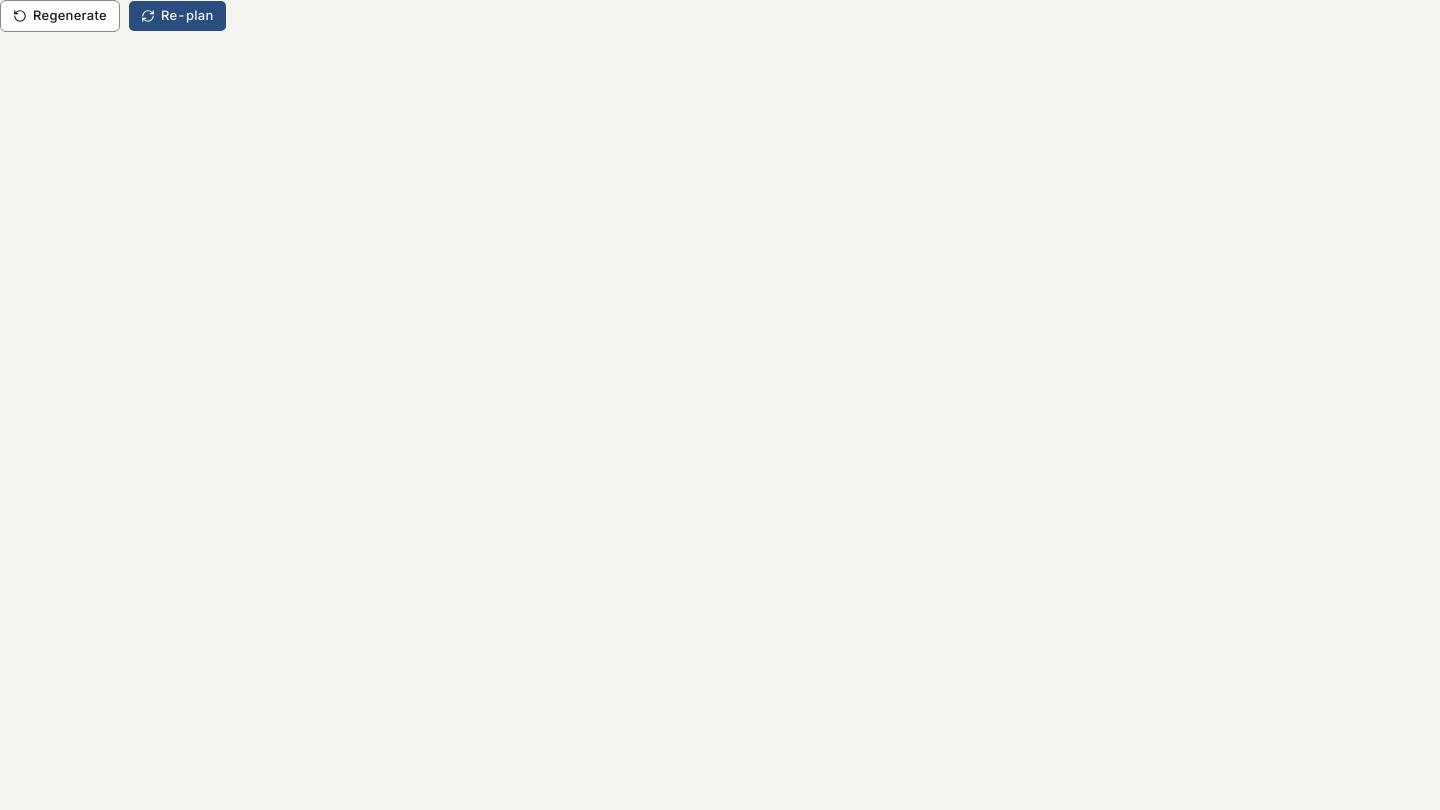
Test: PlanActions › treats a plan that gained progress as a conflict too
The image size is (1440, 810).
Step 1. Click the button "Regenerate" → coordinates (60, 16), box [0,0,120,32]
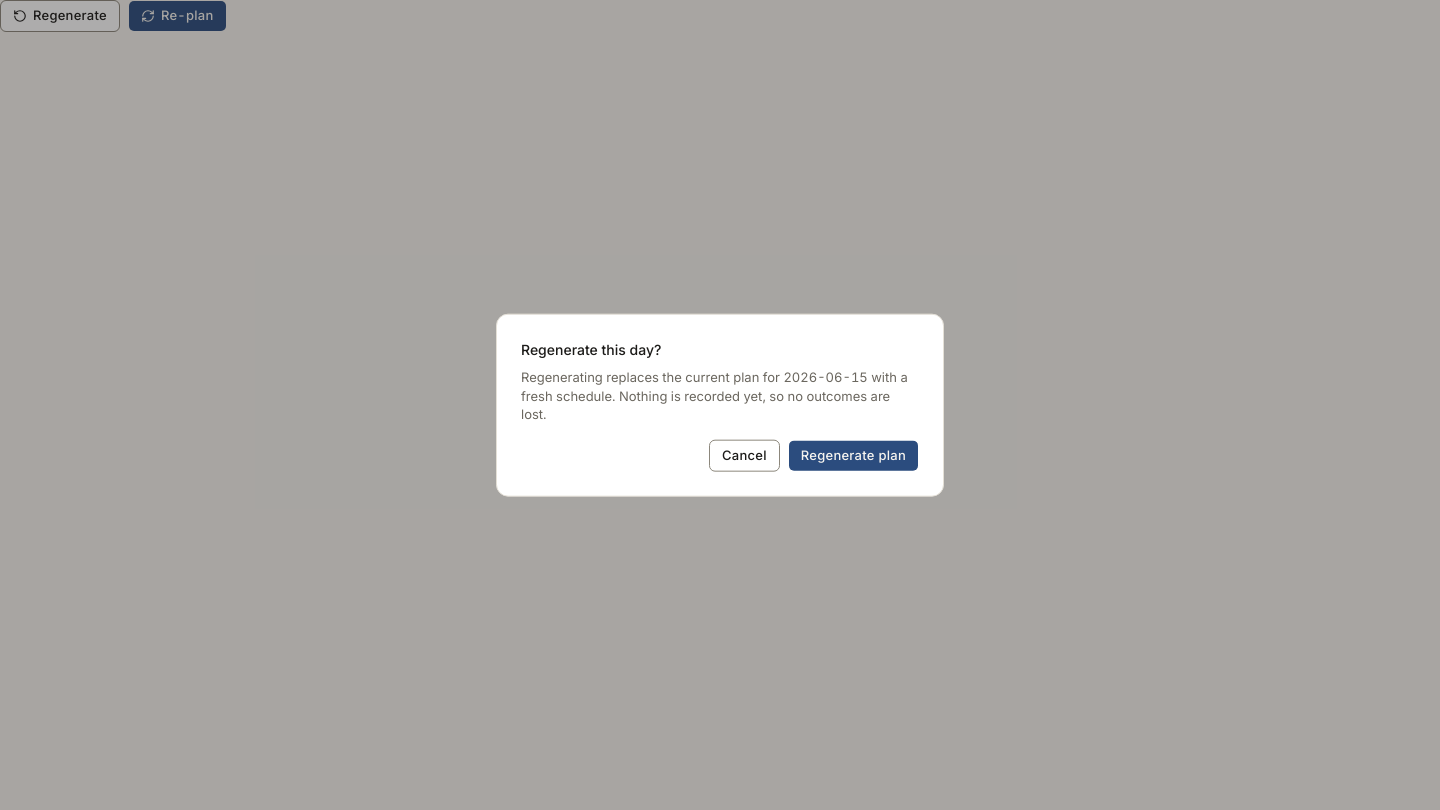
Step 2. Click the button "Regenerate plan" → coordinates (853, 455), box [788,439,919,471]
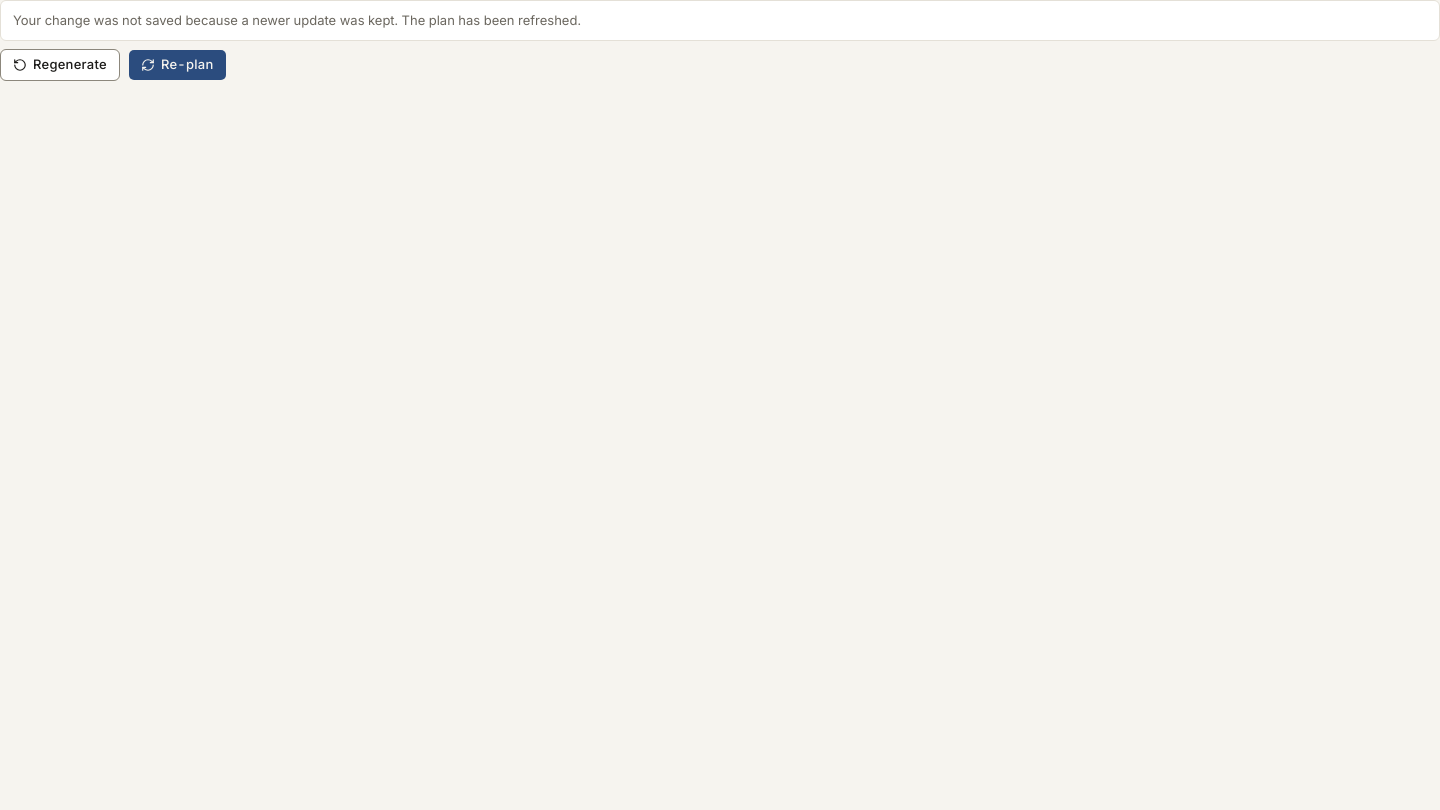
Now the text "a newer update was kept" is shown, box [13,12,581,28]
